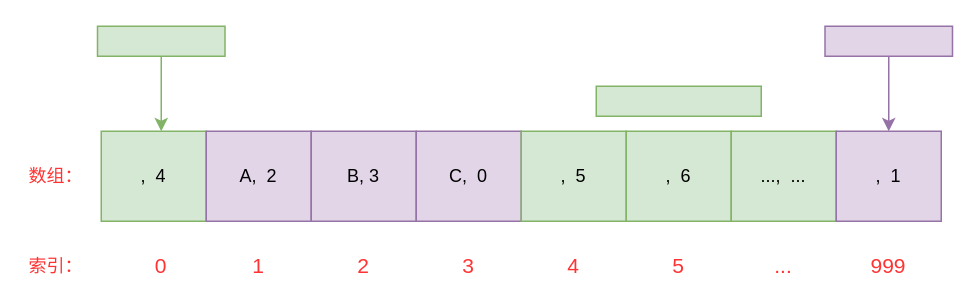
Some shapes in this 978 by 308 pixel diagram are drawn without their labels. Each missing label, with the centre of its shape:
"备用链表表头" goes at [160,40].
"数据链表表头" goes at [888,40].
"空闲部分" goes at [678,100].
